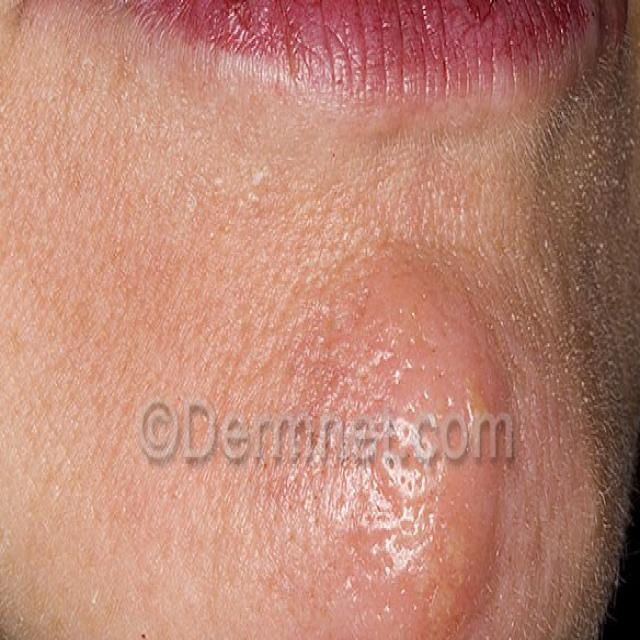Viral Infections: (273, 247, 552, 640)
